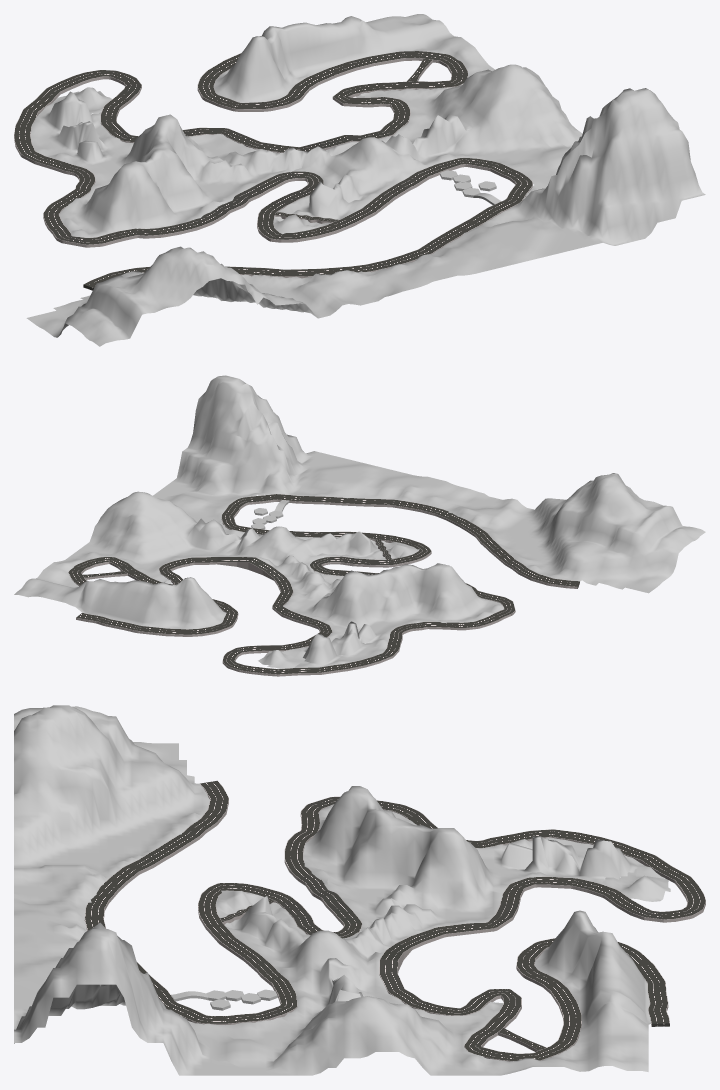
The model's file is map1.0.fbx.
3 renders of one model, top to bottom at view 1: azimuth 30°, elevation 25°; view 2: azimuth 150°, elevation 25°; view 3: azimuth 270°, elevation 25°, orthographic. The views are drawn at different scales.
Visible parts, largest first — view 1: hill, map6, map3, map4, map5, map1, map2; view 2: hill, map1, map5, map4, map6, map3, map2; view 3: hill, map5, map6, map3, map1, map4, map2.
Part boxes in pixels (bbox=[...]): hill: bbox=[26, 14, 705, 346]; map6: bbox=[197, 51, 467, 111]; map3: bbox=[55, 171, 323, 247]; map4: bbox=[14, 70, 136, 238]; map5: bbox=[100, 78, 410, 153]; map1: bbox=[83, 183, 532, 290]; map2: bbox=[281, 157, 532, 242]; hill: bbox=[14, 375, 705, 668]; map1: bbox=[245, 494, 579, 588]; map5: bbox=[159, 557, 332, 656]; map4: bbox=[222, 610, 510, 676]; map6: bbox=[68, 557, 238, 636]; map3: bbox=[310, 548, 515, 615]; map2: bbox=[221, 497, 428, 549]; hill: bbox=[14, 705, 670, 1075]; map5: bbox=[379, 876, 663, 1015]; map6: bbox=[464, 938, 669, 1061]; map3: bbox=[209, 796, 362, 938]; map1: bbox=[84, 780, 228, 1022]; map4: bbox=[377, 800, 705, 922]; map2: bbox=[193, 887, 297, 1024].
Bounding box in the file's own units: 10.28 × 1.89 × 9.05.
